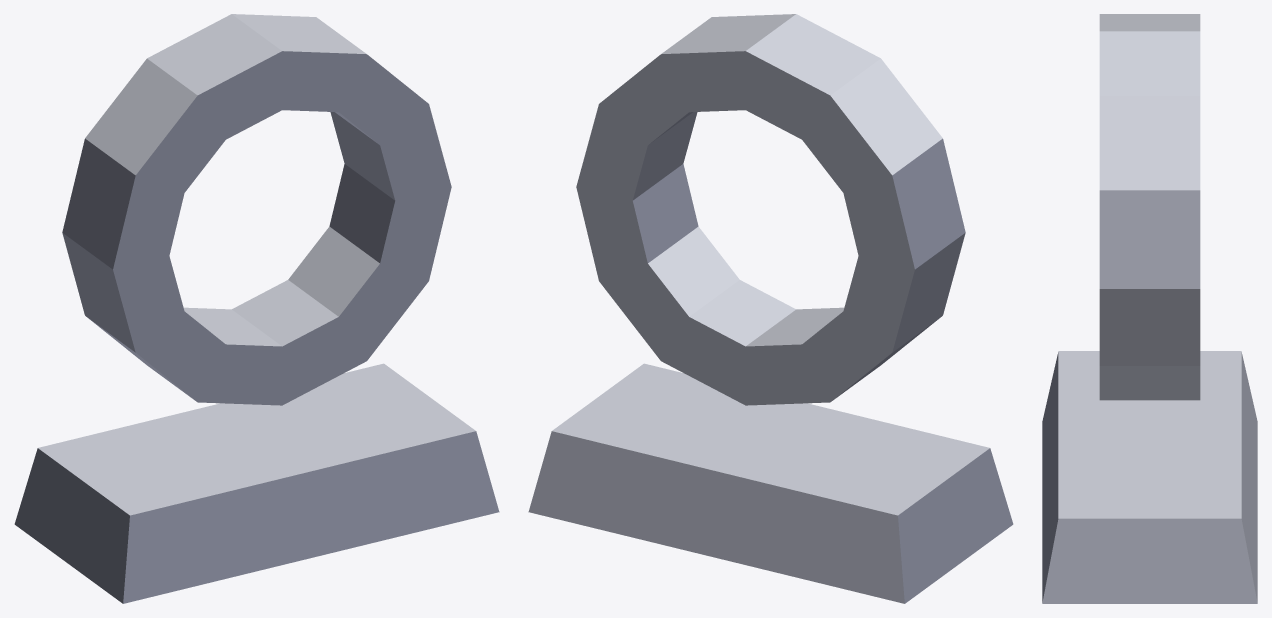
The model's file is statue_ring.glb.
3 views of the same model, side by side, from view 1: azimuth 30°, elevation 25°; view 2: azimuth 150°, elevation 25°; view 3: azimuth 270°, elevation 25° (orthographic).
Visible parts, largest first — view 1: statue_ring; view 2: statue_ring; view 3: statue_ring.
Boxes of the visible parts, x1,y1,x2,y2 form: statue_ring: (14,14,499,603); statue_ring: (528,14,1013,603); statue_ring: (1042,14,1257,603).
Size of the model in its own units: 0.6 by 0.74 by 0.3.
Materials: 1 (1 with a texture image).
